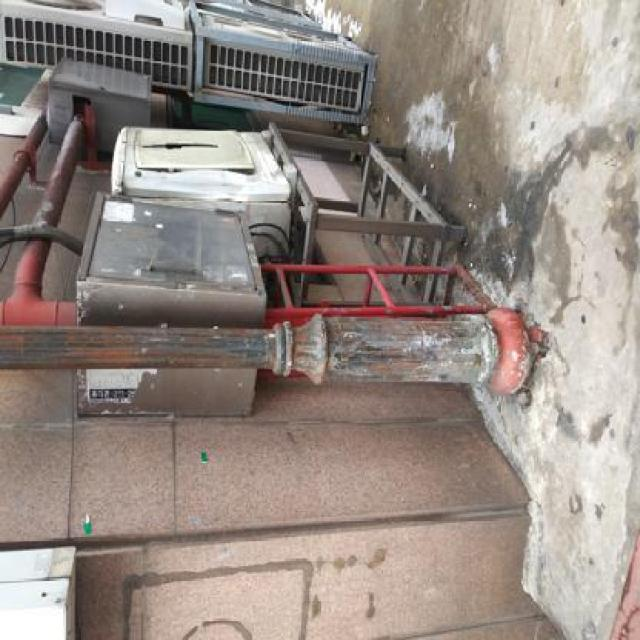pole: (2, 277, 543, 408)
